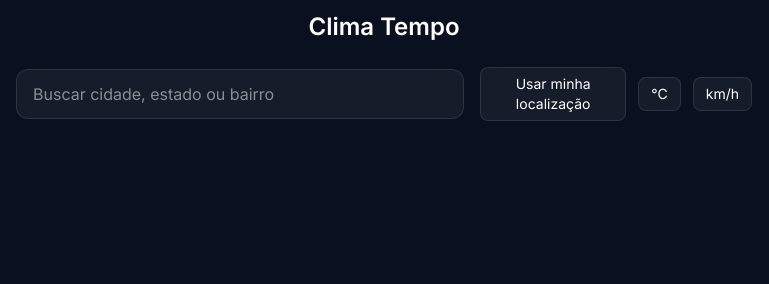
Scenario: App › shows an empty state when the search returns no results
Type "Inexistente" into the dropdown at (240, 94), box [16, 69, 464, 119]
Wait 300 ms
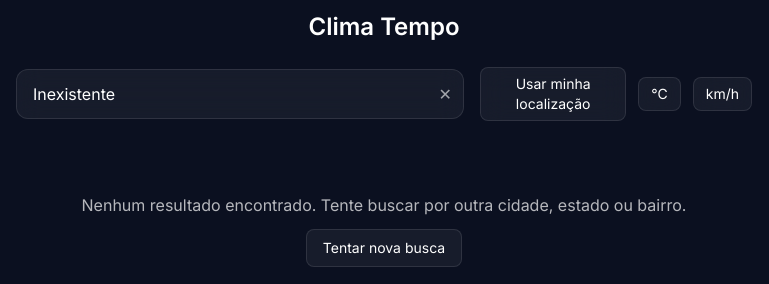
Expected: the text "Nenhum resultado encontrado" is shown, [82, 195, 686, 215]
